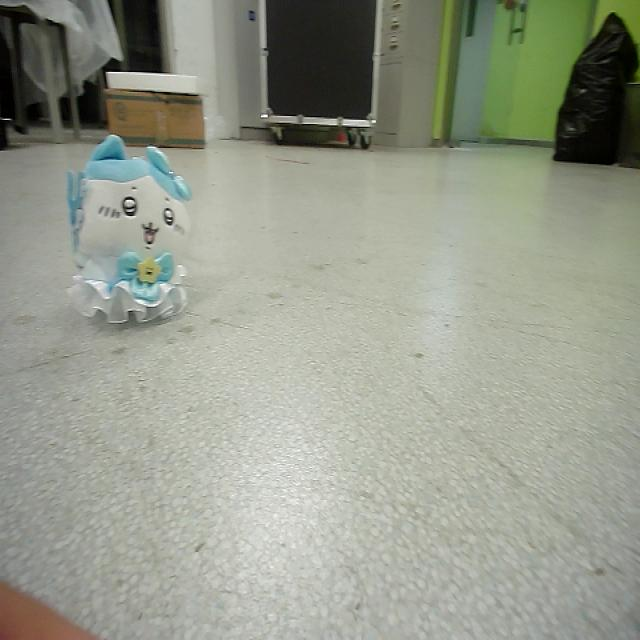xiaoba: (67, 127, 195, 337)
